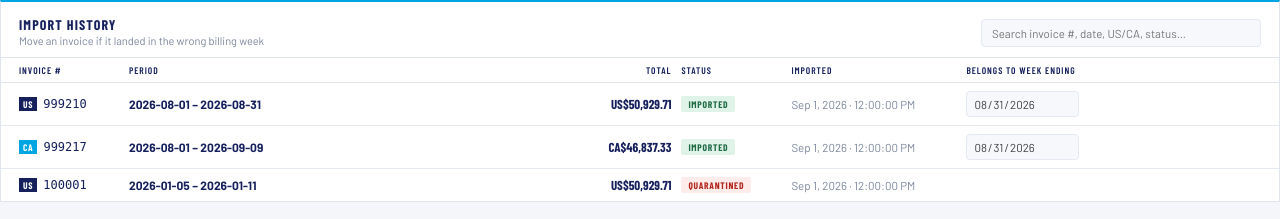
it: ImportHistory (T-42) › search (T-77) › needs every term to match, and says so when nothing does
The image size is (1280, 219).
Type "999217 quarantined" into the search field with test id "history-search" at x=1121, y=33, box top-left (981, 19), bottom-right (1261, 47)
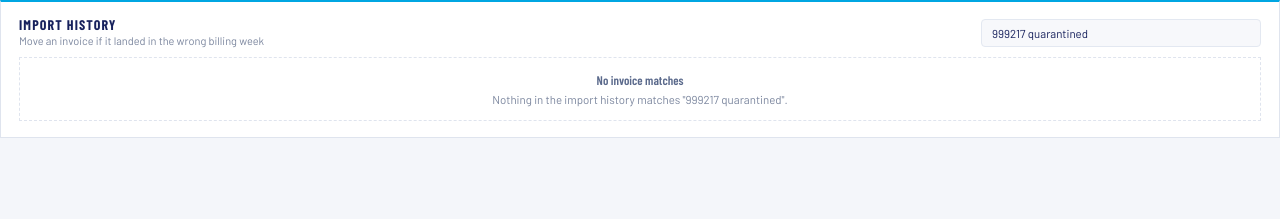
Expected: the text "No invoice matches" is shown, top-left (597, 72), bottom-right (684, 88)
